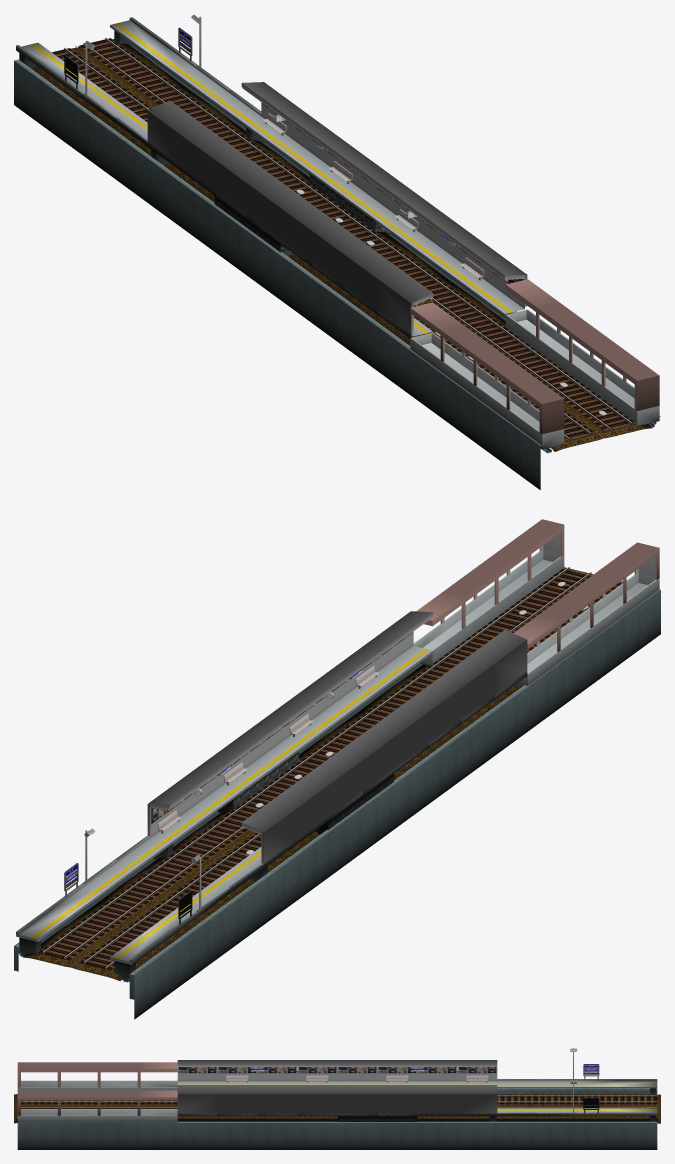
File: K_OIWAKE_ST.glb
The picture shows the model from 3 angles, top to bottom: view 1: azimuth 30°, elevation 25°; view 2: azimuth 150°, elevation 25°; view 3: azimuth 270°, elevation 25°; orthographic projection. The views are drawn at different scales.
Visible parts, largest first — view 1: rail_small, home0-12, bone12-16, bone6-8; view 2: rail_small, home0-12, bone12-16, bone6-8, bone4; view 3: rail_small, home0-12, bone12-16, bone6-8, bone1, bone4, bone8, bone6, bone10, bone4-12, bone9, bone5 (+2 smaller).
Boxes of the visible parts, left/top/right/bottom form: rail_small: left=14, top=37, right=660, bottom=490; home0-12: left=16, top=17, right=527, bottom=338; bone12-16: left=410, top=279, right=659, bottom=449; bone6-8: left=214, top=174, right=390, bottom=258; rail_small: left=14, top=566, right=660, bottom=1019; home0-12: left=16, top=611, right=527, bottom=964; bone12-16: left=413, top=519, right=659, bottom=687; bone6-8: left=217, top=751, right=393, bottom=834; bone4: left=151, top=801, right=267, bottom=881; rail_small: left=14, top=1088, right=660, bottom=1149; home0-12: left=177, top=1060, right=657, bottom=1116; bone12-16: left=17, top=1062, right=177, bottom=1122; bone6-8: left=337, top=1116, right=417, bottom=1121; bone1: left=583, top=1064, right=616, bottom=1117; bone4: left=458, top=1067, right=497, bottom=1121; bone8: left=298, top=1067, right=336, bottom=1082; bone6: left=378, top=1067, right=416, bottom=1082; bone10: left=218, top=1067, right=256, bottom=1082; bone4-12: left=177, top=1066, right=497, bottom=1066; bone9: left=251, top=1067, right=298, bottom=1073; bone5: left=411, top=1067, right=458, bottom=1073.
Bounding box in the file's own units: 26.37 × 23.31 × 202.
67 materials, 46 textured.
